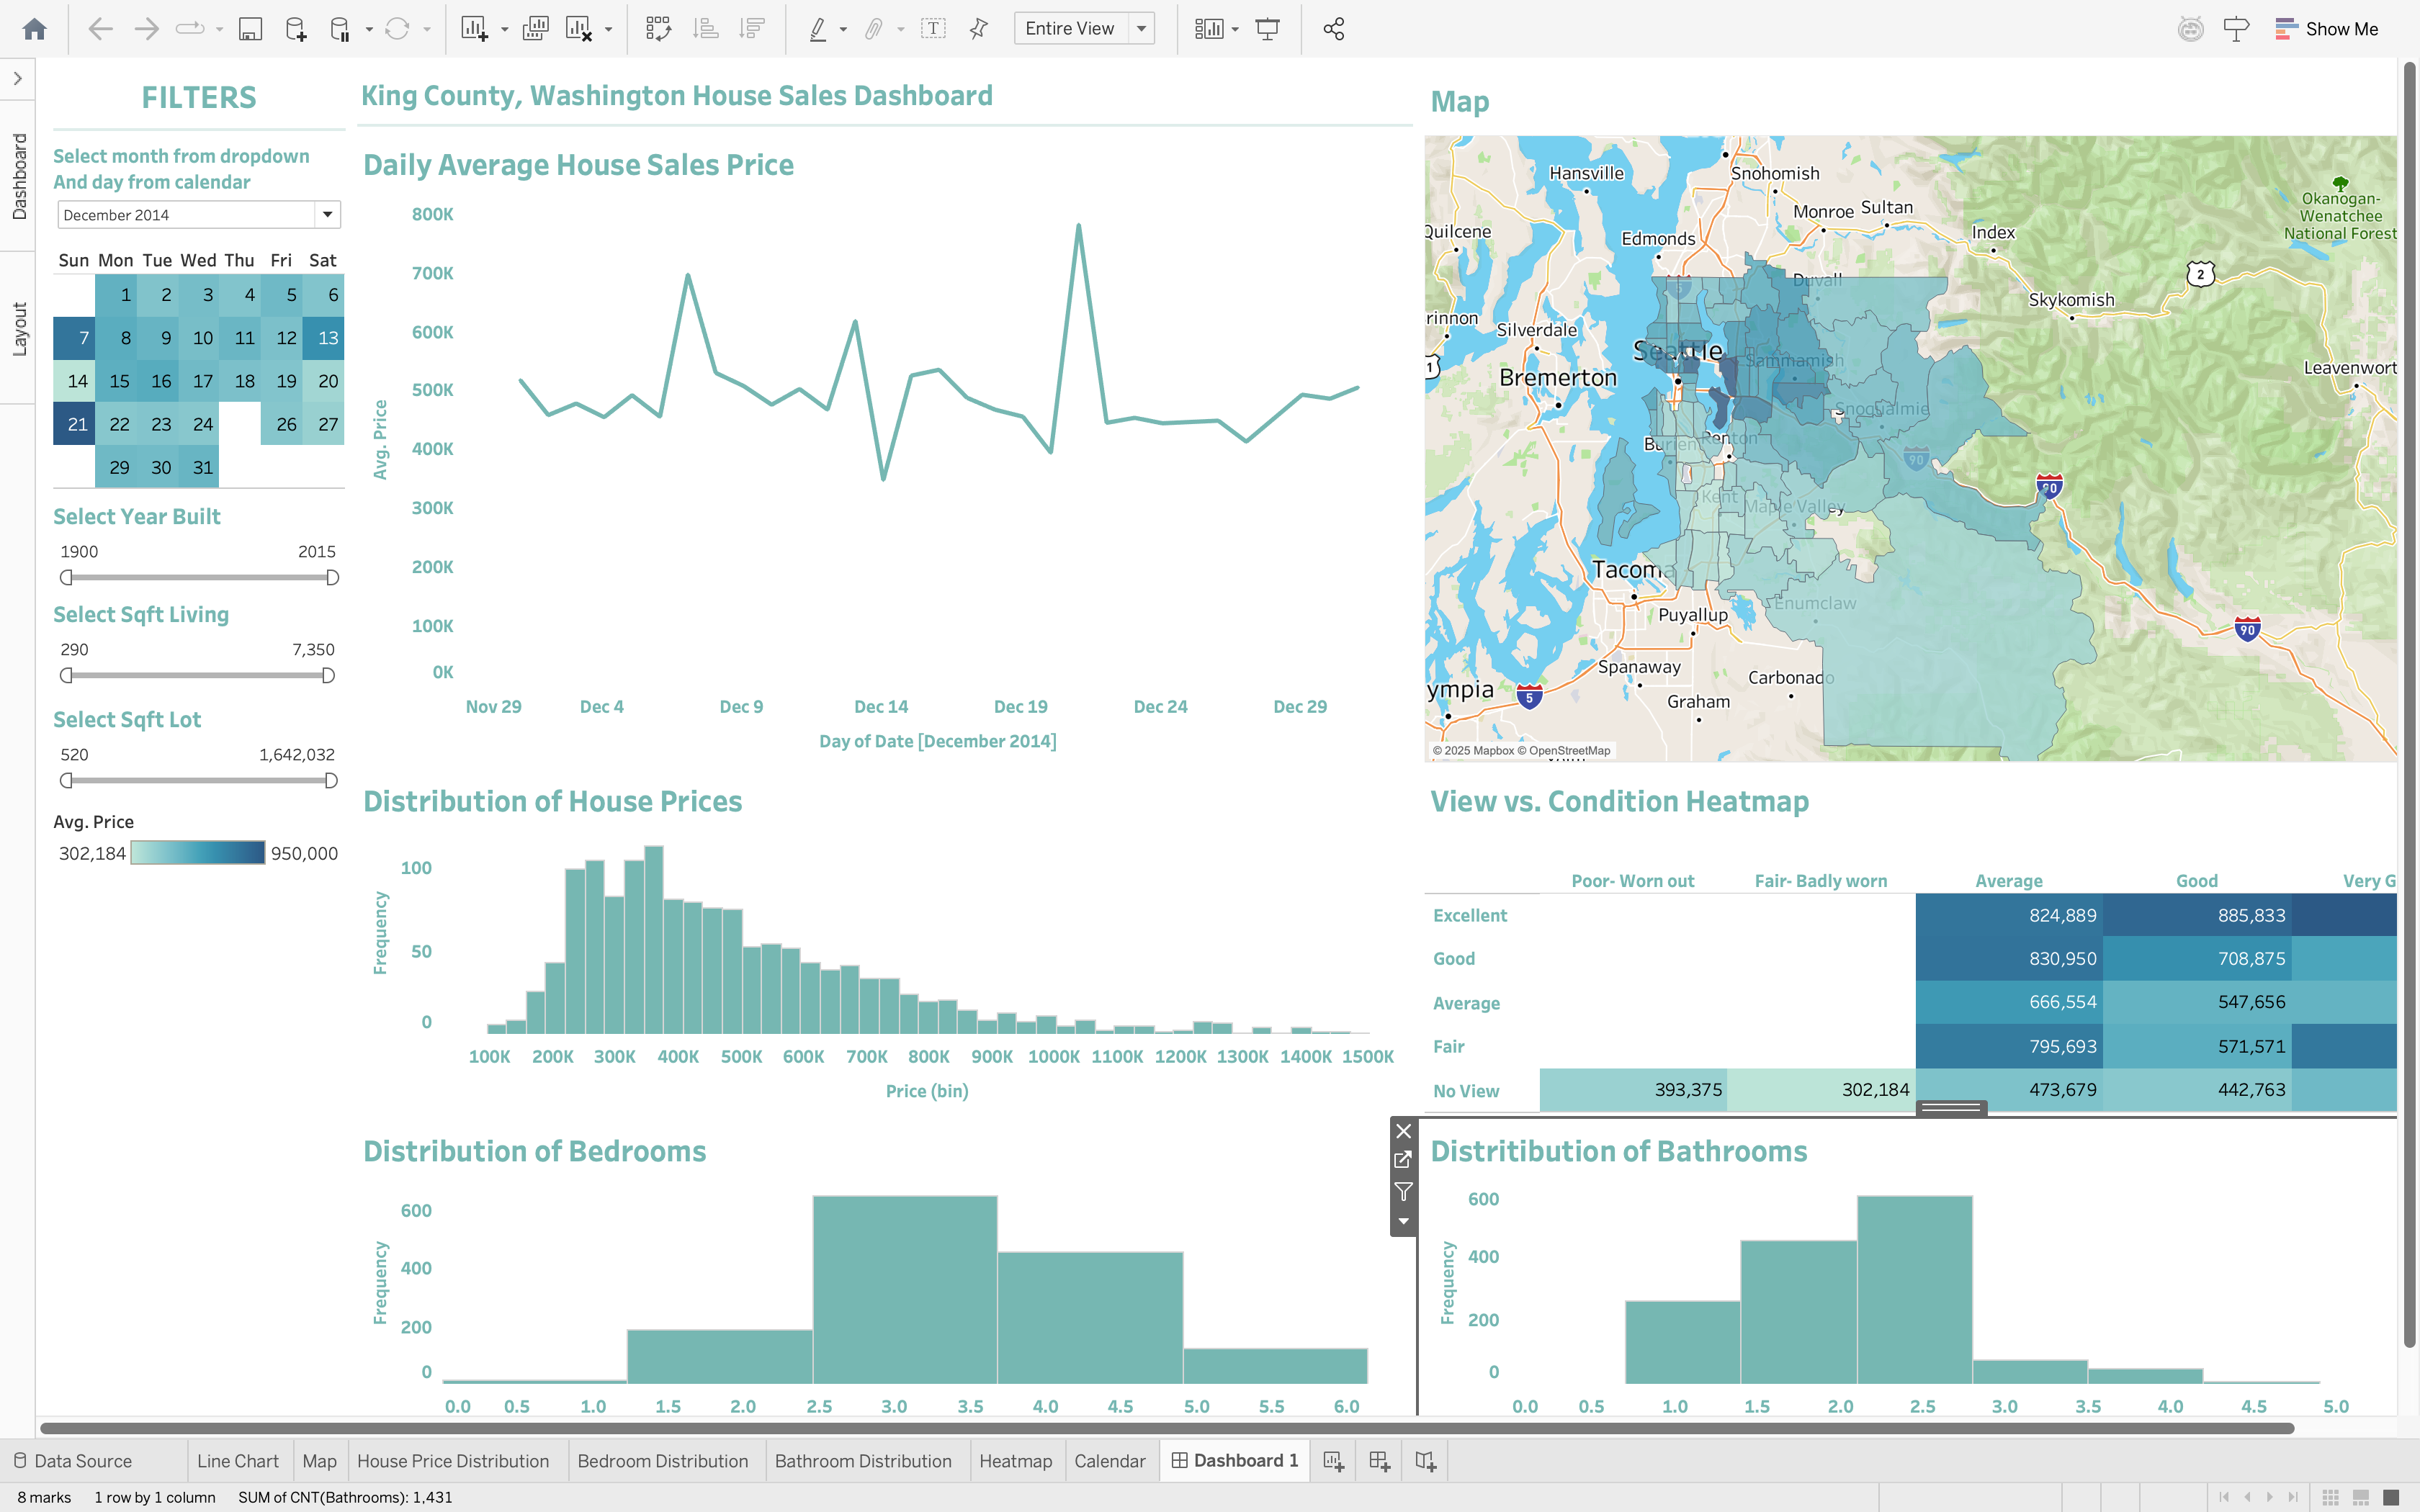

This screenshot's page, from the dashboard's own definition file:
{"tool":"tableau","page":{"name":"Dashboard 1","canvas":[1000,1000],"units":"permille","ordinal":0},"visuals":[{"type":"text","box":[4.3,8.1,123.5,37.5]},{"type":"text","box":[127.8,8.1,434,34.4]},{"type":"worksheet","title":"Map","mark":"Automatic","box":[561.8,8.1,434,491.9]},{"type":"blank","box":[127.8,42.5,434,10.1]},{"type":"blank","box":[4.3,45.6,123.5,10.1]},{"type":"worksheet","title":"Line Chart","mark":"Automatic","rows":["price"],"cols":["date"],"box":[127.8,52.6,434,447.4]},{"type":"filter","title":"Calendar","param":"[federated.0hm6fof0gzguhb160hiyo0gaj7l4].[my:date:ok]","box":[4.3,55.7,123.5,71.9]},{"type":"worksheet","title":"Calendar","mark":"Square","rows":["date"],"cols":["date"],"box":[4.3,127.5,123.5,180.2]},{"type":"filter","title":"Calendar","param":"[federated.0hm6fof0gzguhb160hiyo0gaj7l4].[none:yr_built:qk]","box":[4.3,307.7,123.5,68.8]},{"type":"filter","title":"Calendar","param":"[federated.0hm6fof0gzguhb160hiyo0gaj7l4].[none:sqft_living:qk]","box":[4.3,376.5,123.5,73.9]},{"type":"filter","title":"Calendar","param":"[federated.0hm6fof0gzguhb160hiyo0gaj7l4].[none:sqft_lot:qk]","box":[4.3,450.4,123.5,73.9]},{"type":"worksheet","title":"House Price Distribution","mark":"Automatic","rows":["price"],"cols":["Price (bin)"],"box":[127.8,500,434,246]},{"type":"worksheet","title":"Heatmap","mark":"Square","rows":["view"],"cols":["condition"],"box":[561.8,500,434,246]},{"type":"legend","title":"Heatmap","param":"[federated.0hm6fof0gzguhb160hiyo0gaj7l4].[avg:price:qk]","box":[4.3,524.3,123.5,65.8]},{"type":"worksheet","title":"Bedroom Distribution","mark":"Automatic","rows":["bedrooms"],"cols":["Bedrooms (bin)"],"box":[127.8,746,434,246]},{"type":"worksheet","title":"Bathroom Distribution","mark":"Automatic","rows":["bathrooms"],"cols":["Bathrooms (bin)"],"box":[561.8,746,434,246]}]}

Visuals, with their boxes on the dashboard's canvas, which has no fixed pixel size, in thousandths of its width and height (x1, y1, x2, y2). These are canvas units, not pixel positions in the 2420x1512 screenshot, which may show the page scaled, cropped or inside an application window:
text: detection(4, 8, 128, 46)
text: detection(128, 8, 562, 42)
"Map" worksheet: detection(562, 8, 996, 500)
blank: detection(128, 42, 562, 53)
blank: detection(4, 46, 128, 56)
"Line Chart" worksheet: detection(128, 53, 562, 500)
"Calendar" filter: detection(4, 56, 128, 128)
"Calendar" worksheet (Square marks): detection(4, 128, 128, 308)
"Calendar" filter: detection(4, 308, 128, 376)
"Calendar" filter: detection(4, 376, 128, 450)
"Calendar" filter: detection(4, 450, 128, 524)
"House Price Distribution" worksheet: detection(128, 500, 562, 746)
"Heatmap" worksheet (Square marks): detection(562, 500, 996, 746)
"Heatmap" legend: detection(4, 524, 128, 590)
"Bedroom Distribution" worksheet: detection(128, 746, 562, 992)
"Bathroom Distribution" worksheet: detection(562, 746, 996, 992)
